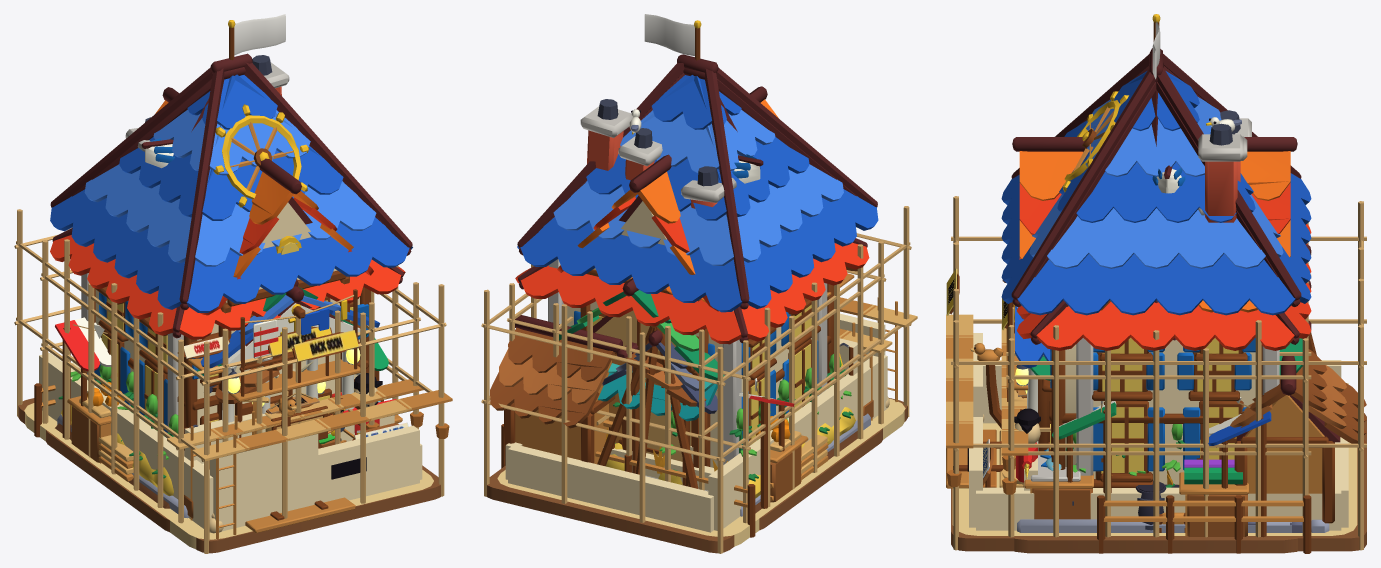
File: city.glb
3 views of the same model, side by side, from view 1: azimuth 30°, elevation 25°; view 2: azimuth 150°, elevation 25°; view 3: azimuth 270°, elevation 25° (orthographic). The views are drawn at different scales.
Visible parts, largest first — view 1: CaptainsHall, Scaffold_3x4, Scaffold_3x3, Tavern, HouseLarge, Shipwright, Market, Scaffold_2x3, Farm, HempField, Warehouse, RopeWalk; view 2: CaptainsHall, Scaffold_3x4, Shipwright, Tavern, Scaffold_3x3, HouseLarge, HempField, Warehouse, Scaffold_2x3, Market, Farm, Sawmill (+2 smaller); view 3: CaptainsHall, Scaffold_3x4, Tavern, Shipwright, Scaffold_3x3, HouseLarge, Market, Farm, HempField, Scaffold_2x3, Warehouse.
Part boxes in pixels (box(x1,y1,x2,y2)): CaptainsHall: box(50, 14, 412, 518); Scaffold_3x4: box(14, 209, 452, 553); Scaffold_3x3: box(40, 240, 423, 523); Tavern: box(50, 117, 405, 450); HouseLarge: box(155, 87, 373, 448); Shipwright: box(24, 391, 433, 549); Market: box(55, 317, 402, 463); Scaffold_2x3: box(209, 302, 382, 441); Farm: box(34, 373, 396, 527); HempField: box(34, 365, 203, 532); Warehouse: box(197, 279, 367, 443); RopeWalk: box(212, 353, 360, 448); CaptainsHall: box(517, 14, 878, 516); Scaffold_3x4: box(481, 206, 917, 553); Shipwright: box(490, 315, 905, 546); Tavern: box(515, 154, 869, 385); Scaffold_3x3: box(507, 241, 892, 523); HouseLarge: box(557, 86, 778, 454); HempField: box(501, 354, 882, 537); Warehouse: box(559, 278, 724, 447); Scaffold_2x3: box(551, 288, 839, 490); Market: box(717, 378, 808, 508); Farm: box(501, 400, 878, 533); Sawmill: box(602, 330, 717, 467); CaptainsHall: box(1001, 14, 1311, 532); Scaffold_3x4: box(946, 196, 1366, 551); Tavern: box(1001, 110, 1311, 505); Shipwright: box(946, 332, 1366, 535); Scaffold_3x3: box(1001, 222, 1311, 538); HouseLarge: box(1006, 117, 1297, 451); Market: box(1024, 397, 1271, 537); Farm: box(1014, 408, 1311, 553); HempField: box(1012, 424, 1311, 553); Scaffold_2x3: box(1001, 242, 1311, 471); Warehouse: box(1002, 244, 1311, 441).
Bounding box in the file's own units: 5.72 × 9.53 × 7.6.
10 materials, 3 textured.
